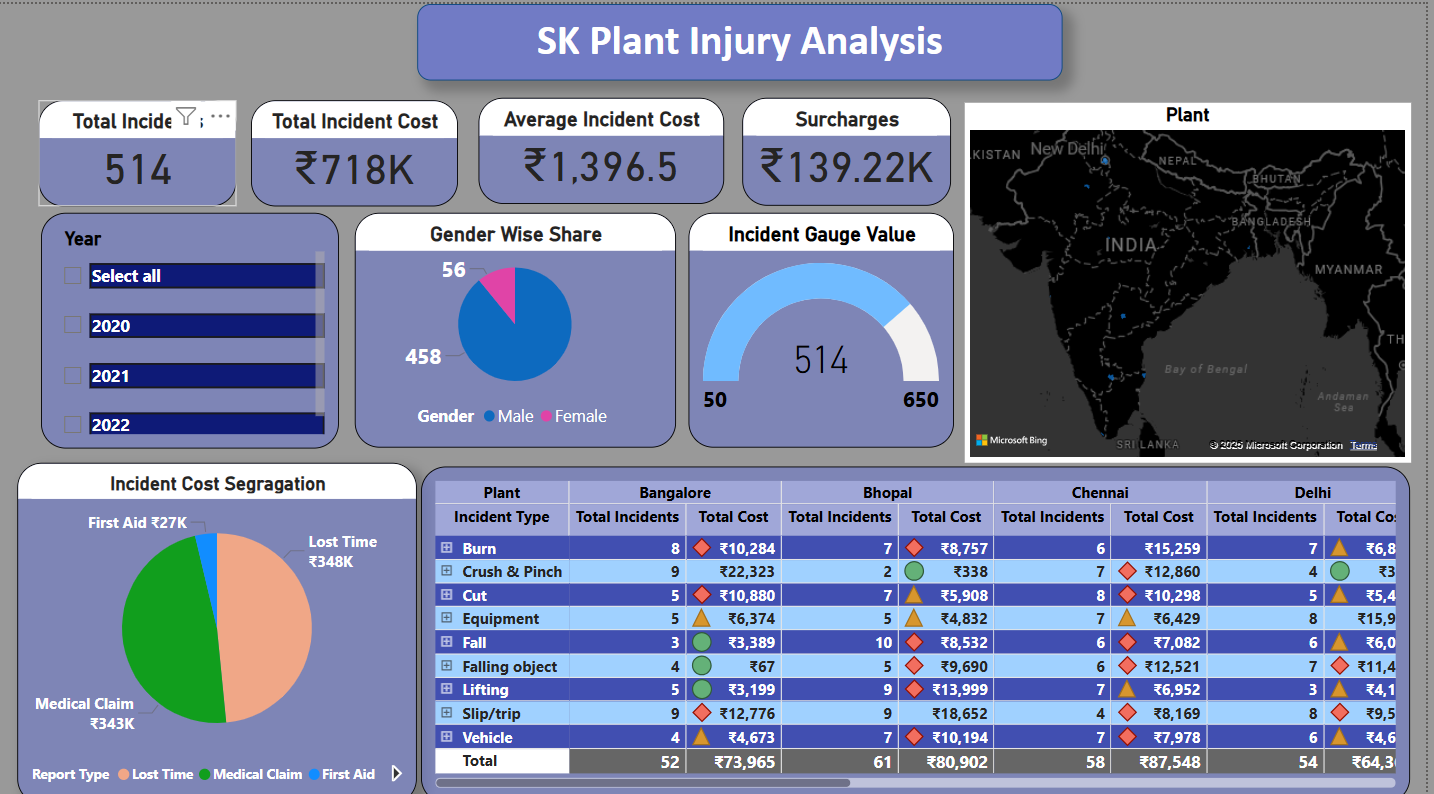

What the dashboard file says about the page in this screenshot:
{"tool":"powerbi","page":{"name":"Page 1","canvas":[1280,720],"ordinal":0},"visuals":[{"type":"textbox","box":[383.3,0,574,67.7],"z":0},{"type":"card","title":"Total Incidents","fields":{"Values":["CountNonNull(SafetyData.Incident Cost)"]},"box":[46.7,85.1,175.6,94.7],"z":1000},{"type":"card","title":"Total Incident Cost","fields":{"Values":["Sum(SafetyData.Incident Cost)"]},"box":[236,85.1,183.9,94.7],"z":2000},{"type":"card","title":"Average Incident Cost","fields":{"Values":["SafetyData.Average Cost"]},"box":[437.7,83.7,218.2,94.7],"z":3000},{"type":"card","title":"Surcharges","fields":{"Values":["SafetyData.surchargediff"]},"box":[672.4,83.7,185.2,96.1],"z":4000},{"type":"pieChart","title":"Gender Wise Share","fields":{"Category":["SafetyData.Gender"],"Y":["CountNonNull(SafetyData.Incident No.)"]},"box":[328,185.2,285.4,208.6],"z":5000},{"type":"slicer","fields":{"Values":["SafetyData.Year"]},"box":[49.4,185.2,264.8,209.9],"z":6000},{"type":"gauge","title":"Incident Gauge Value","fields":{"MinValue":["SafetyData.Base Value"],"MaxValue":["SafetyData.MaxValue"],"Y":["SafetyData.CurrValue"]},"box":[624.4,185.2,236,208.6],"z":7000},{"type":"filledMap","fields":{"Category":["SafetyData.Plant"]},"box":[870,87.8,396.6,319.7],"z":8000},{"type":"pieChart","title":"Incident Cost Segragation","fields":{"Category":["SafetyData.Report Type"],"Y":["Sum(SafetyData.Incident Cost)"]},"box":[27.4,407.5,355.4,303.3],"z":9000},{"type":"pivotTable","fields":{"Rows":["SafetyData.Incident Type","SafetyData.Shift"],"Columns":["SafetyData.Plant"],"Values":["SafetyData.Total Incident","SafetyData.Total Cost"]},"box":[387,411.7,879.6,299.1],"z":10000},{"type":"qnaVisual","box":[985.6,13.3,294.4,54.4],"z":11000}]}

Visuals, with their boxes in screenshot pixels (x1, y1, x2, y2), scaled from the page's 1280x720 canvas onto the 1434x794 screenshot:
textbox: locate(429, 0, 1072, 75)
"Total Incidents" card: locate(52, 94, 249, 198)
"Total Incident Cost" card: locate(264, 94, 470, 198)
"Average Incident Cost" card: locate(490, 92, 735, 197)
"Surcharges" card: locate(753, 92, 961, 198)
"Gender Wise Share" pieChart: locate(367, 204, 687, 434)
slicer - SafetyData.Year: locate(55, 204, 352, 436)
"Incident Gauge Value" gauge: locate(700, 204, 964, 434)
filledMap - SafetyData.Plant: locate(975, 97, 1419, 449)
"Incident Cost Segragation" pieChart: locate(31, 449, 429, 784)
pivotTable - SafetyData.Incident Type x SafetyData.Shift: locate(434, 454, 1419, 784)
qnaVisual: locate(1104, 15, 1433, 75)
